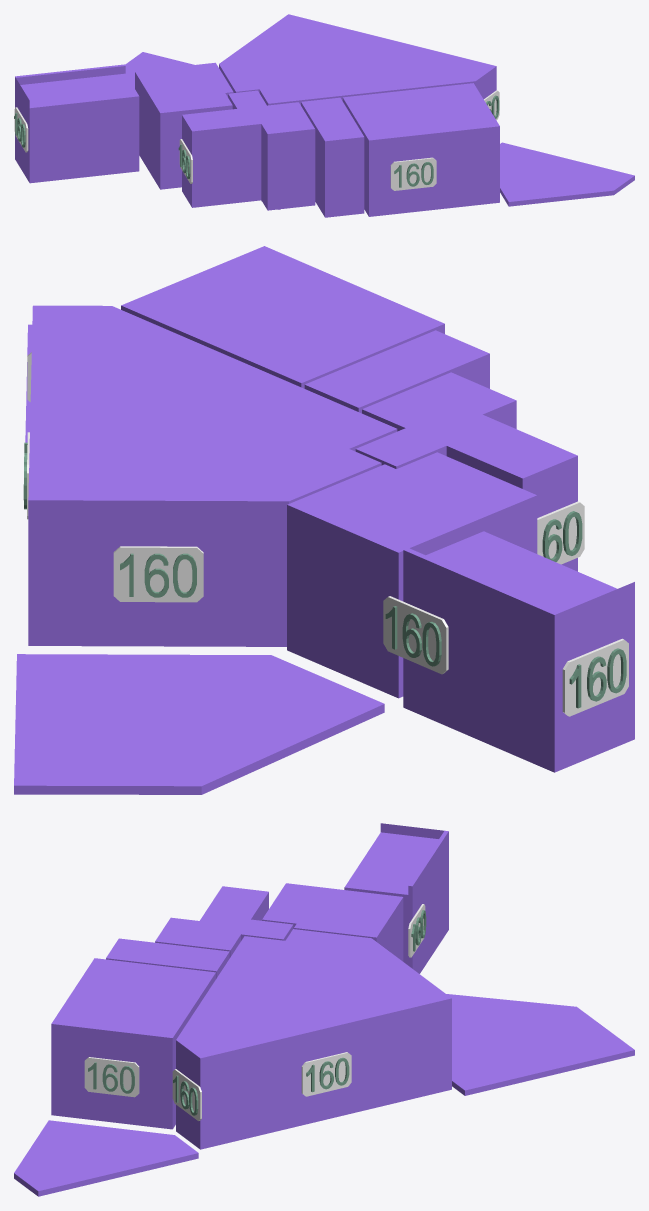
3 renders of one model, top to bottom at view 1: azimuth 30°, elevation 25°; view 2: azimuth 150°, elevation 25°; view 3: azimuth 270°, elevation 25°, orthographic. The views are drawn at different scales.
Parts seen in each view (by area): view 1: g_1, g_0, g_3, g_5, g_4, g_2, g_7, g_19, g_6; view 2: g_0, g_6, g_5, g_4, g_1, g_3, g_2, g_39, g_35, g_11, g_27; view 3: g_0, g_1, g_6, g_7, g_5, g_4, g_3, g_2, g_15, g_23, g_31.
Part boxes in pixels (<box>): g_1: <box>342,83,499,216</box>; g_0: <box>219,14,496,105</box>; g_3: <box>182,90,315,210</box>; g_5: <box>15,64,139,183</box>; g_4: <box>135,62,233,189</box>; g_2: <box>301,97,364,217</box>; g_7: <box>500,142,634,206</box>; g_19: <box>390,157,436,190</box>; g_6: <box>125,52,194,88</box>; g_0: <box>28,305,397,646</box>; g_6: <box>14,654,384,794</box>; g_5: <box>403,531,634,772</box>; g_4: <box>287,452,537,698</box>; g_1: <box>121,246,444,388</box>; g_3: <box>355,372,577,571</box>; g_2: <box>304,330,489,413</box>; g_39: <box>113,546,203,602</box>; g_35: <box>562,638,628,716</box>; g_11: <box>383,596,448,674</box>; g_27: <box>537,501,584,564</box>; g_0: <box>176,929,451,1149</box>; g_1: <box>51,958,215,1129</box>; g_6: <box>446,994,634,1095</box>; g_7: <box>14,1120,198,1196</box>; g_5: <box>344,823,448,973</box>; g_4: <box>262,883,403,961</box>; g_3: <box>155,886,293,957</box>; g_2: <box>106,938,229,978</box>; g_15: <box>84,1057,139,1097</box>; g_23: <box>301,1052,351,1096</box>; g_31: <box>172,1069,201,1120</box>.
Size of the model in its own units: 15.8 by 2.85 by 15.38.
